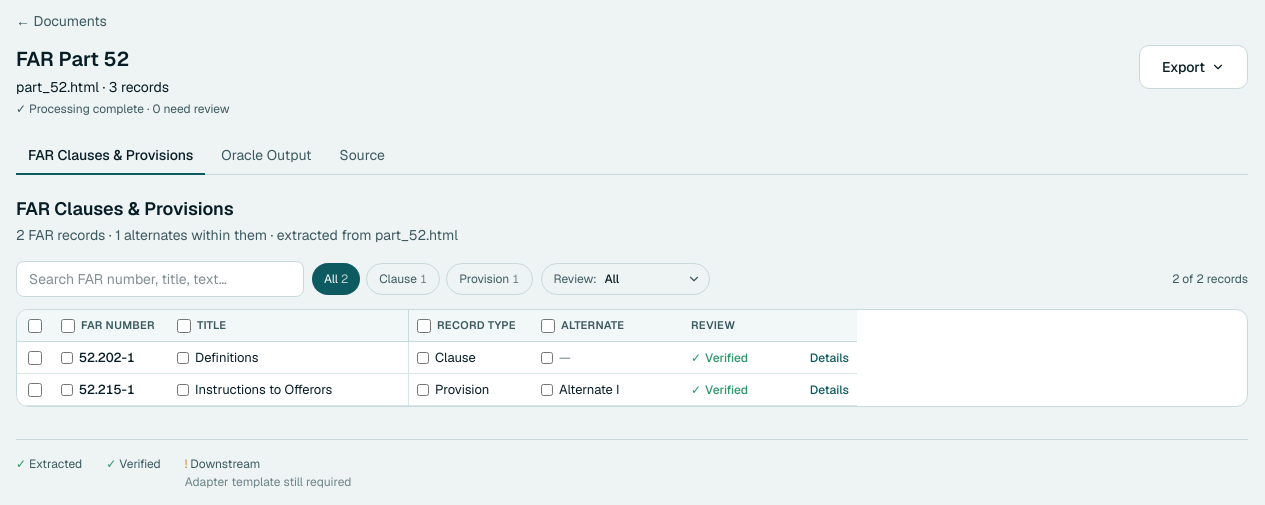
Test case: DocumentWorkspace with a profile-declared presentation › shows FAR records as a compact grid with alternates kept under their record
Expected: the dropdown named "Review status" is shown, [601,264,705,294]
Expected: the text "Alternate I" is shown, [559,381,620,398]
Click the button "Clause 1" at (403, 279), box [366,263,440,295]
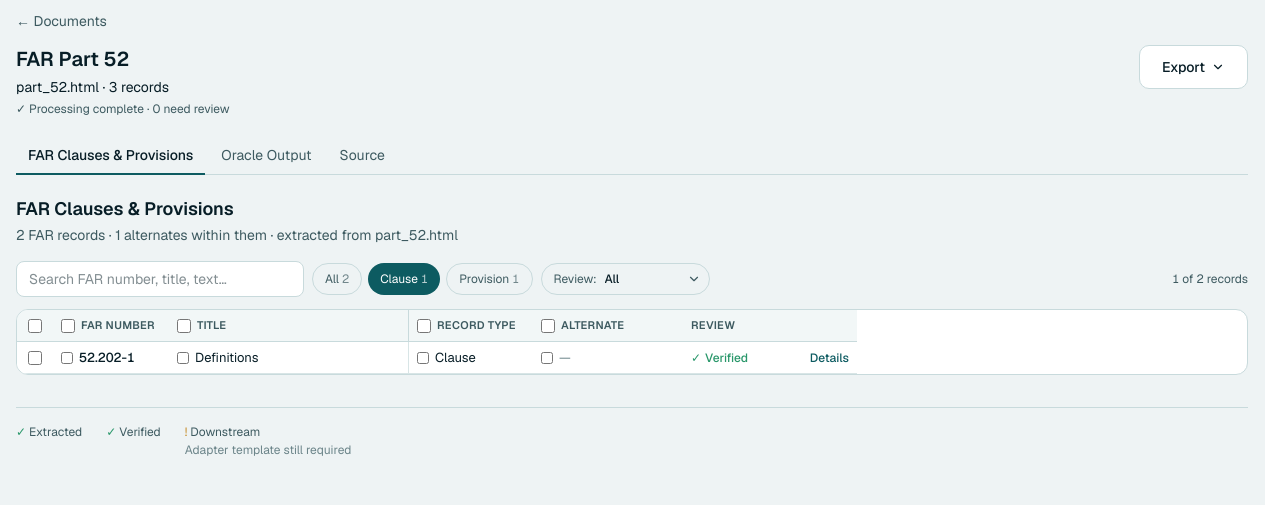
Expected: the text "52.215-1" is gone
